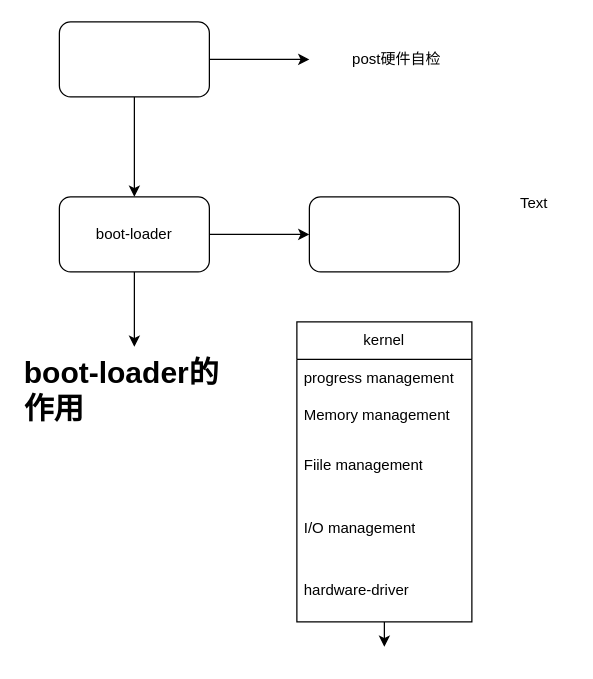
Image size: 593x679. Some labels were removed from this diagram. The shapes that lost their labels are listed below. From the top down, each one's centre as x and y in pixels, then its label:
At (133,59): "UEFI/BIOS固件".
At (383,234): "kernell内核".
